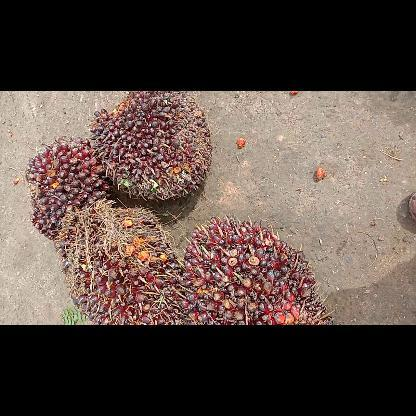Kurang masak: (180, 214, 334, 324), (64, 200, 186, 324), (90, 90, 212, 200), (25, 136, 111, 240)
